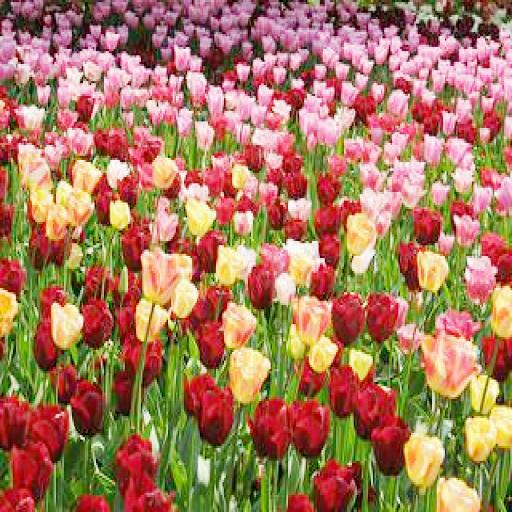tulip: (422, 324, 478, 401), (352, 380, 398, 444), (114, 431, 163, 491), (288, 394, 331, 458), (251, 394, 293, 458), (29, 403, 70, 467), (138, 248, 184, 305), (366, 418, 410, 476), (230, 344, 270, 406), (200, 384, 237, 448), (70, 378, 108, 440), (10, 442, 52, 497), (118, 335, 164, 384), (290, 294, 331, 348), (318, 463, 362, 512), (362, 288, 400, 343), (403, 435, 443, 484), (437, 469, 480, 512), (331, 286, 362, 345), (30, 316, 62, 373), (462, 412, 496, 465), (326, 363, 358, 418), (222, 299, 256, 350), (192, 320, 226, 371), (478, 331, 512, 382), (82, 296, 114, 350), (50, 303, 83, 352), (211, 243, 243, 292), (134, 296, 164, 346), (394, 241, 422, 294), (84, 262, 122, 301), (186, 194, 218, 239), (122, 218, 150, 268), (248, 264, 277, 312), (181, 373, 213, 416), (488, 284, 512, 341), (486, 399, 512, 450), (346, 211, 374, 258), (62, 186, 94, 226), (466, 256, 491, 307), (124, 488, 177, 512), (468, 371, 498, 412), (414, 205, 444, 245), (420, 250, 446, 294), (480, 228, 506, 267), (315, 230, 339, 271), (70, 488, 111, 512), (310, 333, 336, 369), (117, 168, 141, 207), (420, 126, 442, 168), (106, 203, 131, 228), (74, 96, 96, 124), (283, 490, 310, 512), (285, 169, 307, 196)
